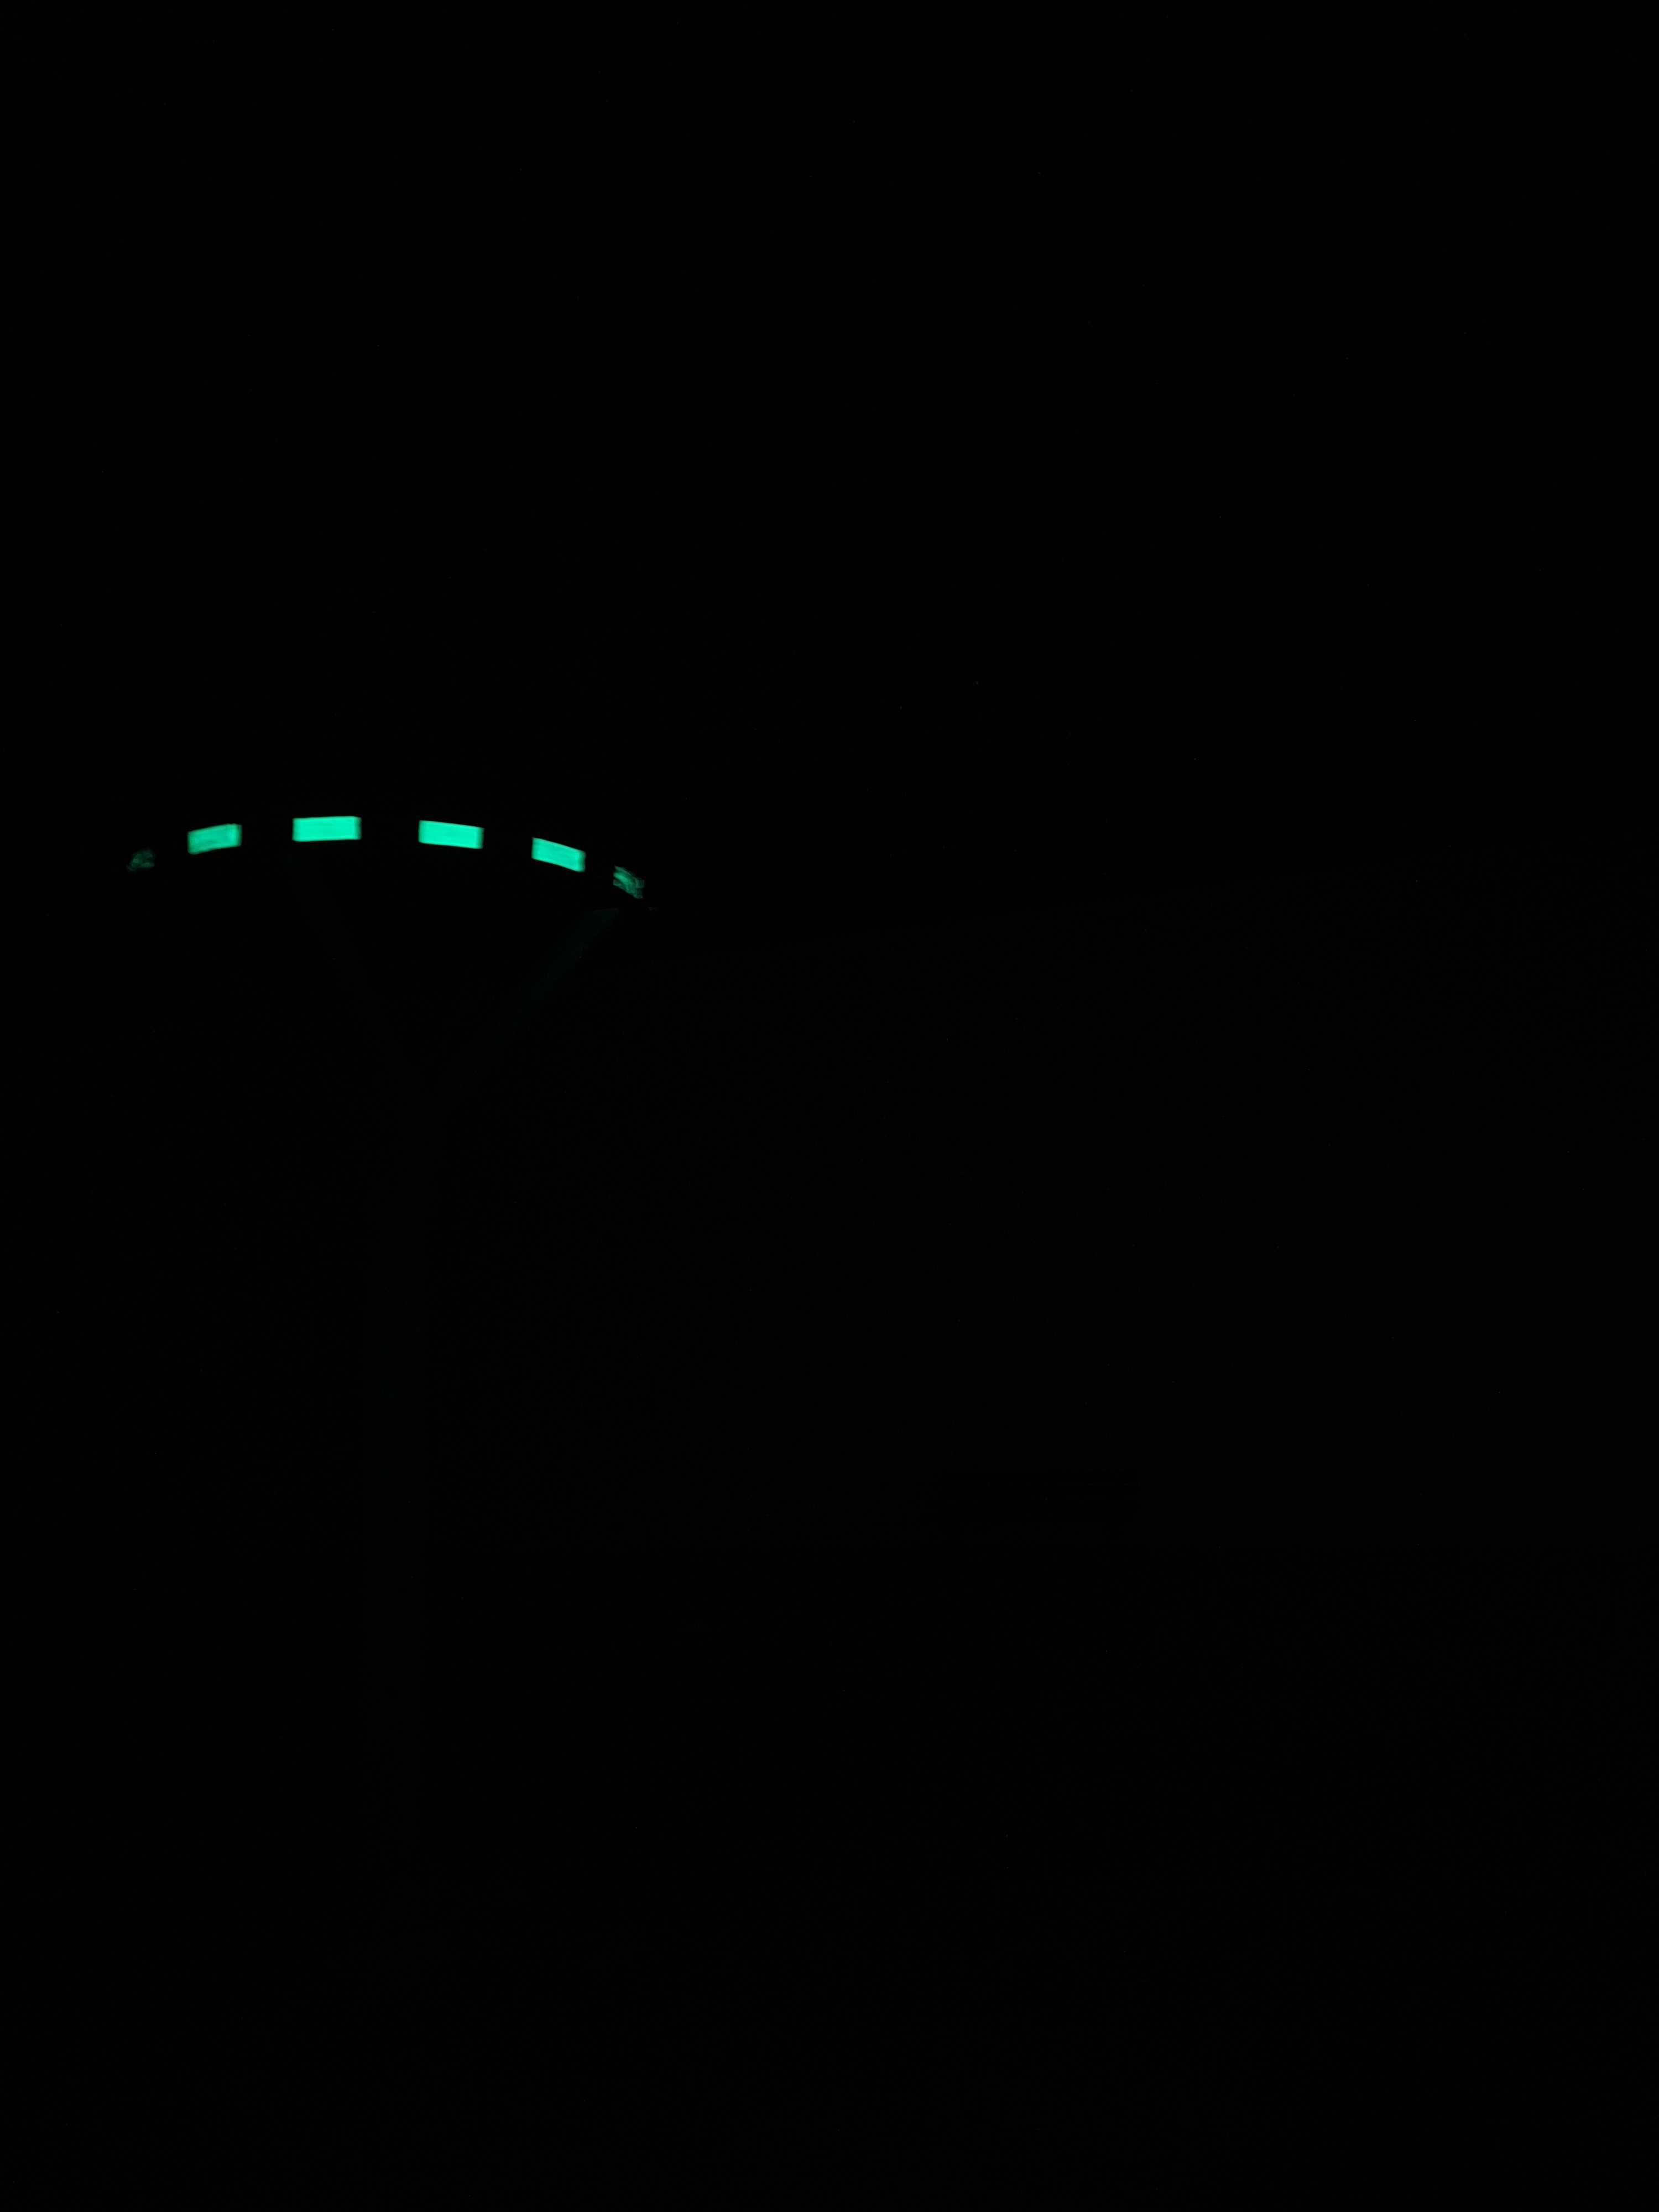hoop: (94, 801, 657, 914)
